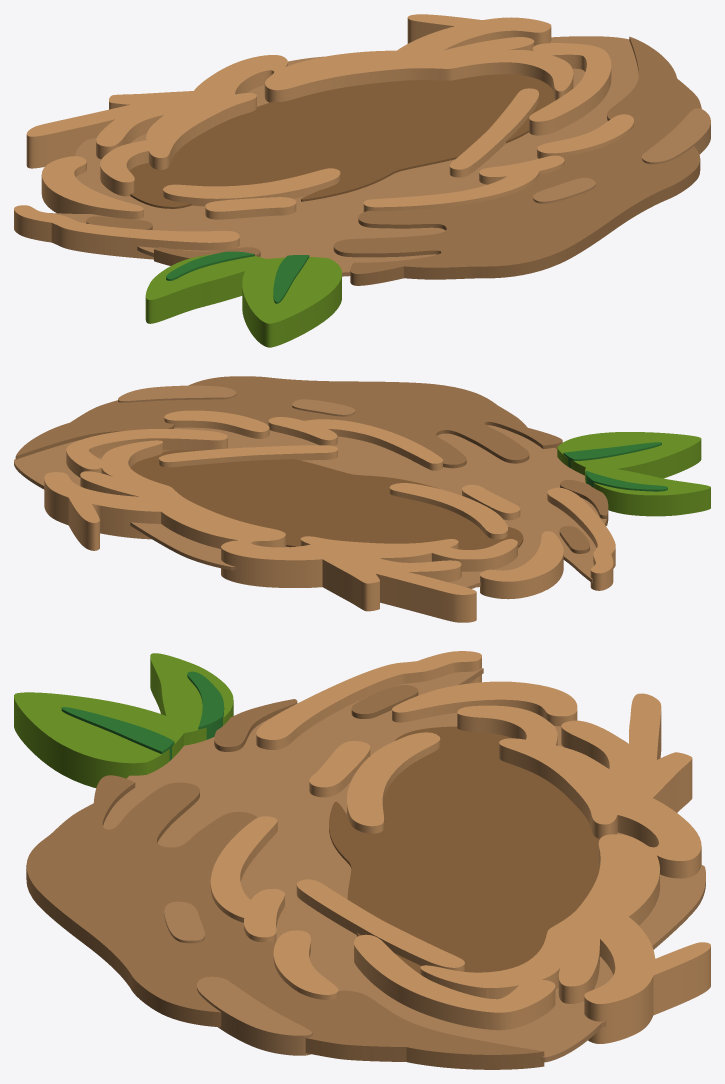
The model's file is emoji_u1fab9.glb.
3 renders of one model, top to bottom at view 1: azimuth 30°, elevation 25°; view 2: azimuth 150°, elevation 25°; view 3: azimuth 270°, elevation 25°, orthographic. The views are drawn at different scales.
Parts seen in each view (by area): view 1: emoji_u1fab9; view 2: emoji_u1fab9; view 3: emoji_u1fab9.
Part boxes in pixels (x1,y1,x2,y2): emoji_u1fab9: (14,14,710,347); emoji_u1fab9: (14,376,710,622); emoji_u1fab9: (14,651,710,1069).
Size of the model in its own units: 0.0343 by 0.0016 by 0.0253.
